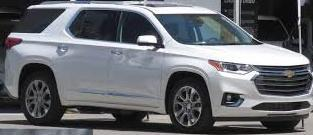SUV: (6, 4, 313, 133)
